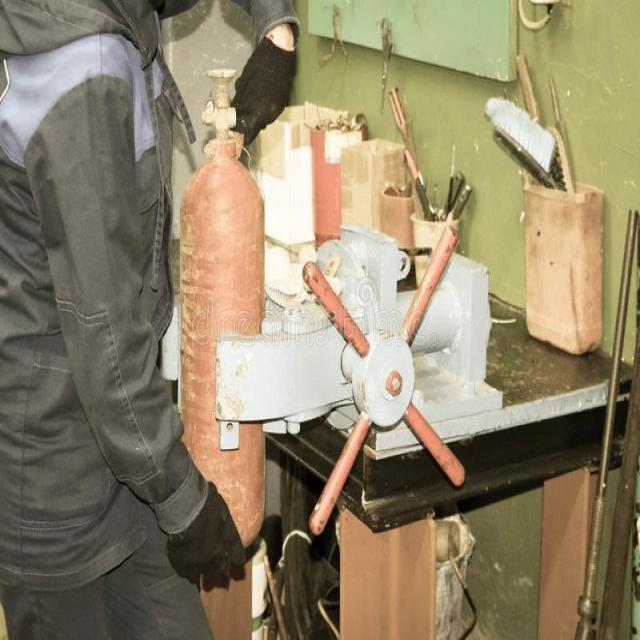fire_extinguisher: (171, 58, 273, 572)
